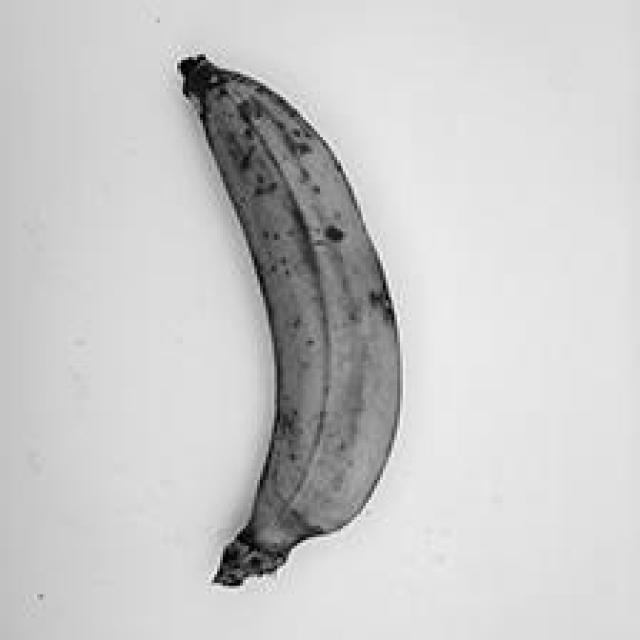Overripe: (131, 32, 440, 600)
